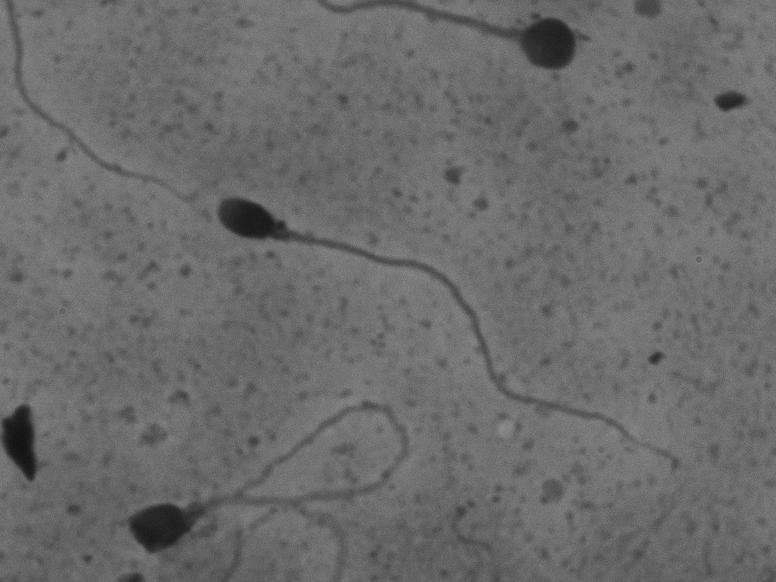Abnormal: (111, 387, 424, 567)
Normal: (197, 179, 721, 481)
